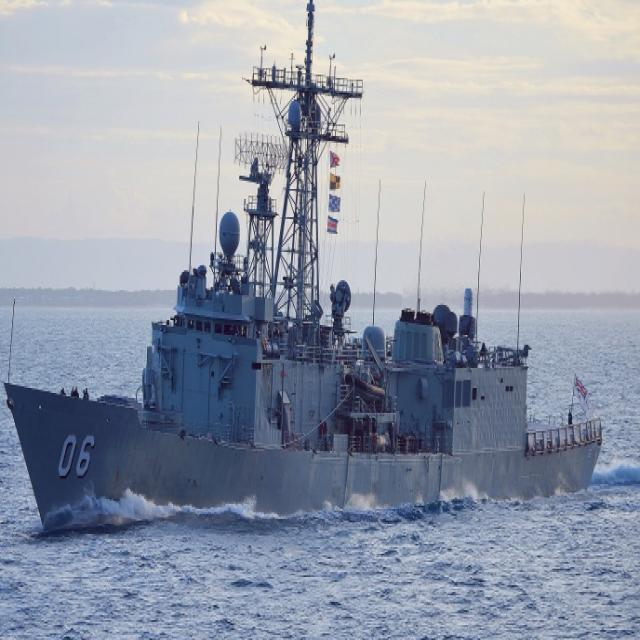Fragata: (8, 1, 606, 538)
